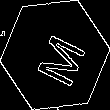M_NW: (25, 24, 85, 86)
